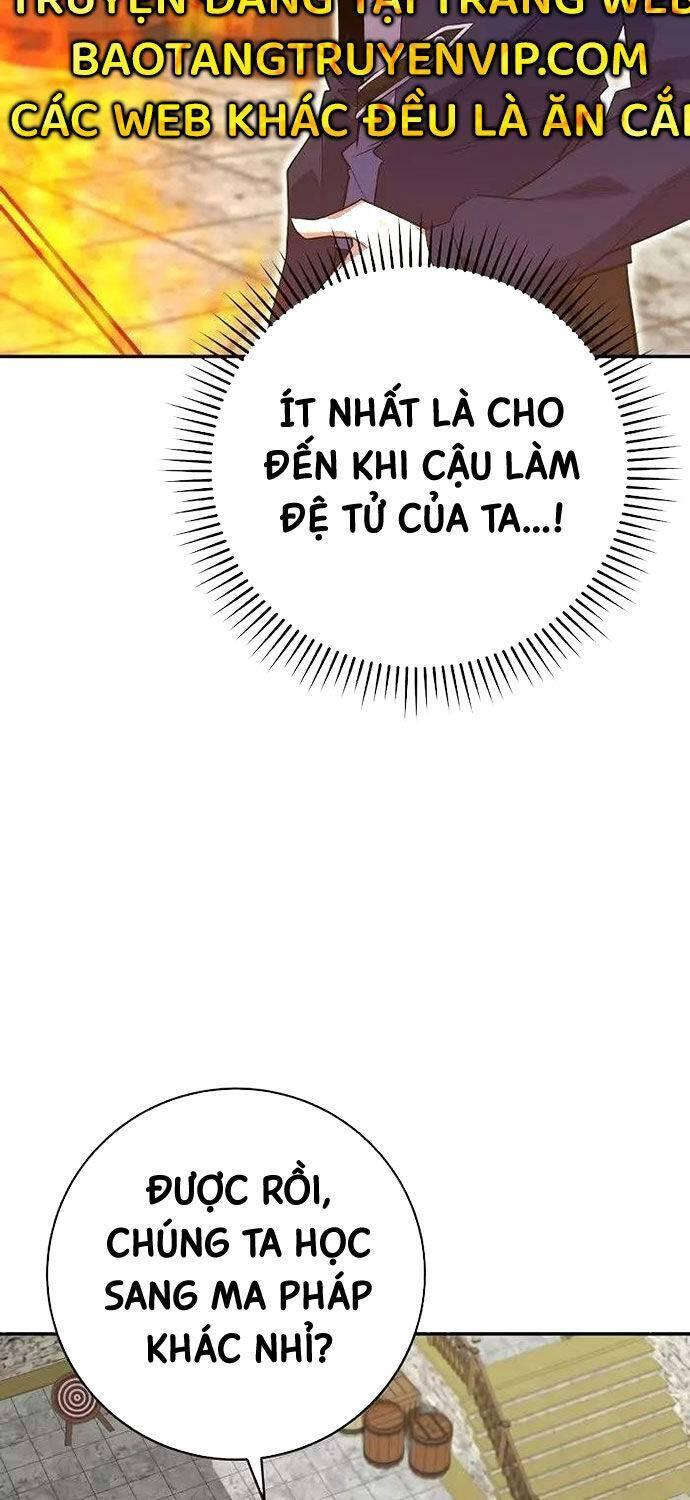quangcao: (6, 0, 690, 144)
